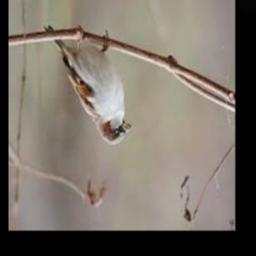Sparrow: (43, 25, 131, 145)
